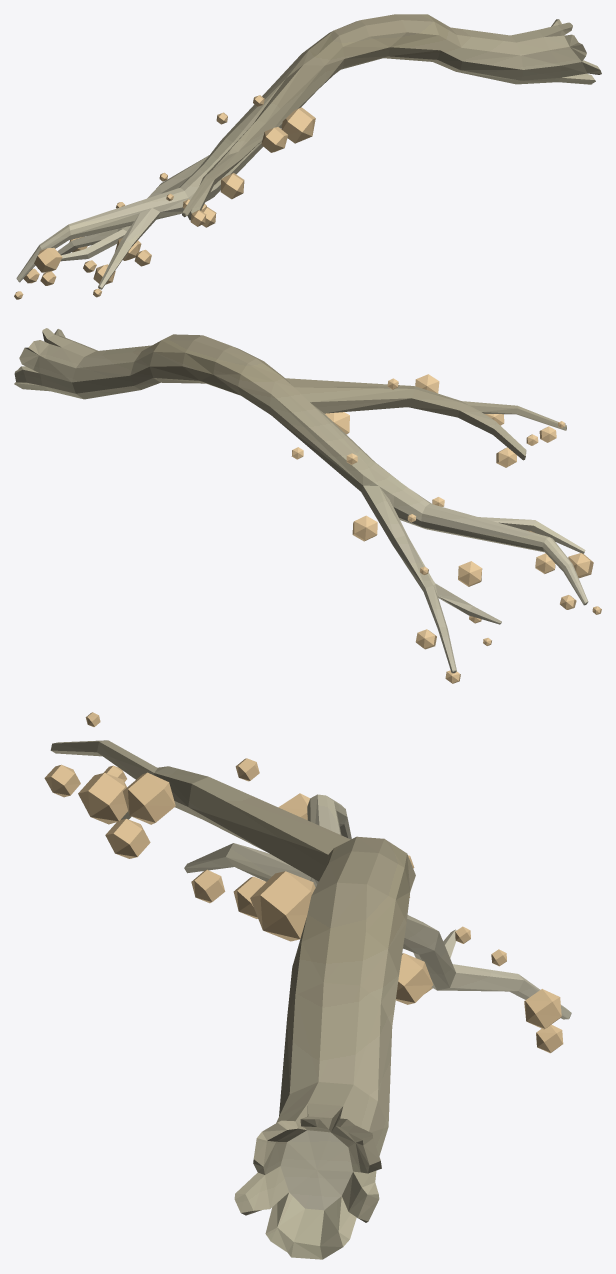
The model's file is CharSkyKid_Prop_AP22HangingLight.glb.
3 renders of one model, top to bottom at view 1: azimuth 30°, elevation 25°; view 2: azimuth 150°, elevation 25°; view 3: azimuth 270°, elevation 25°, orthographic. The views are drawn at different scales.
Visible parts, largest first — view 1: CharSkyKid_Prop_AP22HangingLight; view 2: CharSkyKid_Prop_AP22HangingLight; view 3: CharSkyKid_Prop_AP22HangingLight.
Part boxes in pixels (x1,y1,x2,y2): CharSkyKid_Prop_AP22HangingLight: [14, 14, 601, 299]; CharSkyKid_Prop_AP22HangingLight: [14, 328, 601, 683]; CharSkyKid_Prop_AP22HangingLight: [44, 712, 571, 1259].
Bounding box in the file's own units: 2.01 × 0.7755 × 0.7998.
1 material, 1 textured.
